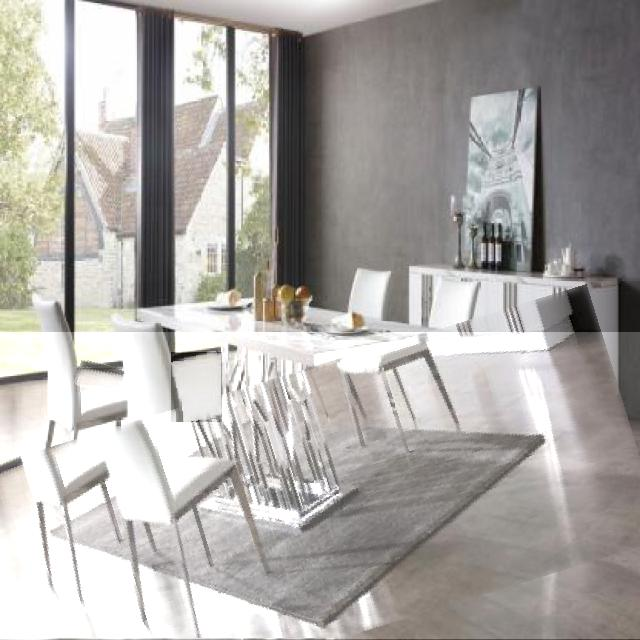floor: (178, 333, 640, 639), (0, 464, 199, 639), (171, 352, 222, 422), (76, 369, 125, 392)
